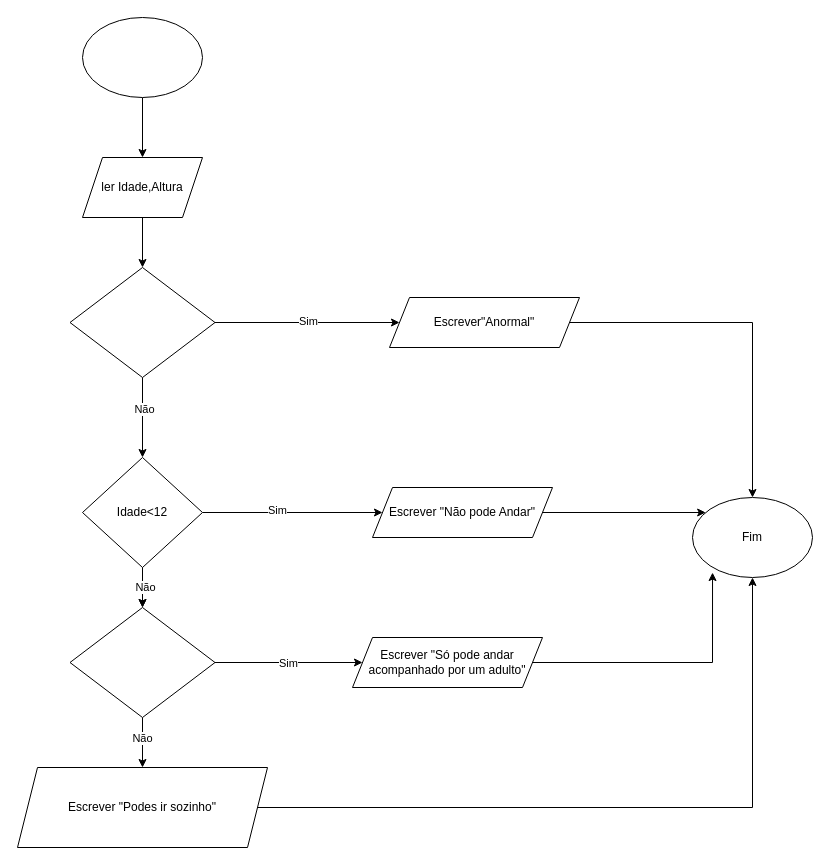
The diagram is 830 pixels wide and 865 high, and some of its shapes have lost their labels. The shapes that lost their labels are listed below. From the top down, each one's box as (x1, y1, x2, y2) in pixels, then its label:
(82, 16, 202, 98): inicio
(69, 266, 215, 378): Idade<=0 OU Altura<=0
(69, 606, 215, 718): Altura<140
